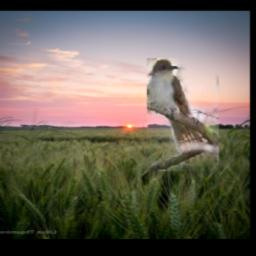Cuckoo: (147, 59, 219, 172)
